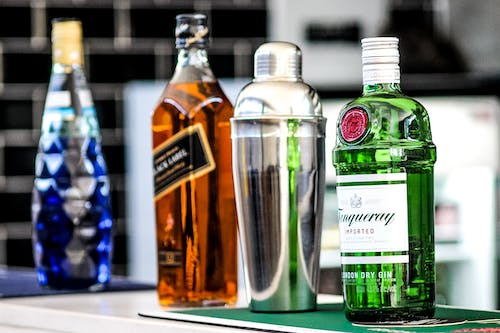alcohol: (330, 35, 438, 323), (149, 13, 238, 308), (30, 16, 113, 291)
